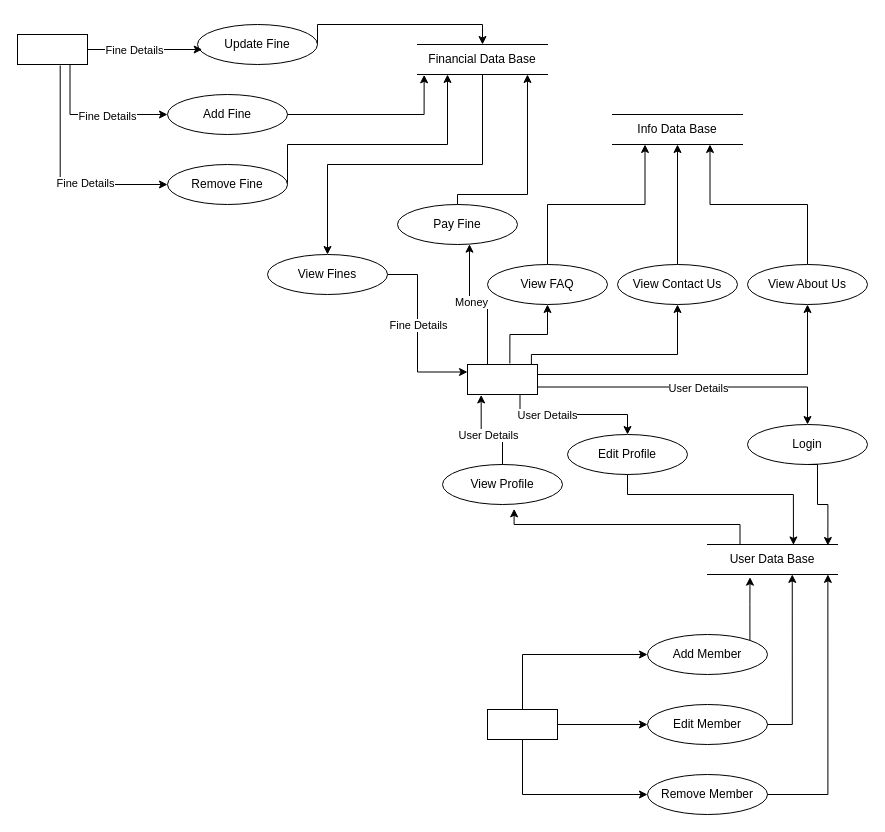
Image size: 885x832. Some labels were removed from this diagram. Each missing label, with the centre of its shape:
"Admin" belongs at (x=522, y=724).
"Librarian" belongs at (x=52, y=49).
"User" belongs at (x=502, y=379).
